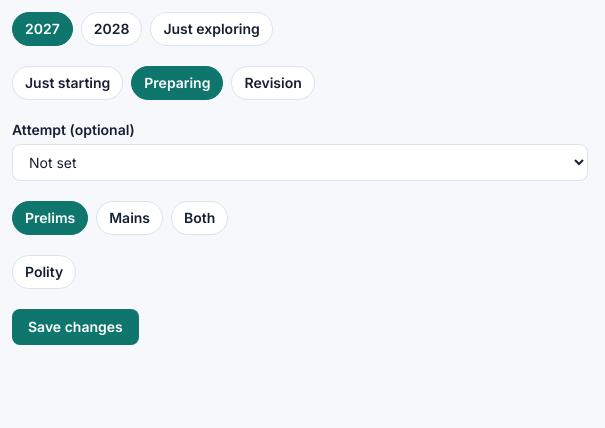
PreparationForm › PUTs the full profile
The width and height of the screenshot is (605, 428).
Click the radio button labelled "2028": {"x": 112, "y": 29} [81, 12, 142, 46]
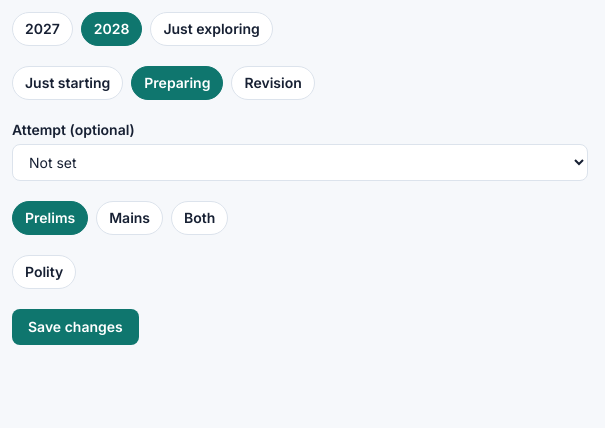
Click the button "Polity": {"x": 44, "y": 272} [12, 255, 76, 289]
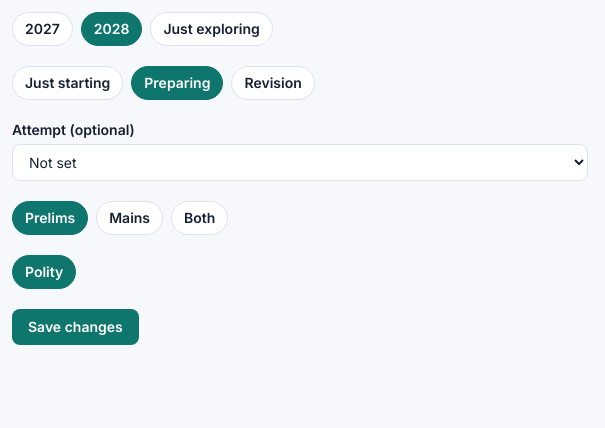
Select "Prefer not to say" in the dropdown labelled "Attempt (optional)": {"x": 300, "y": 162} [12, 144, 588, 181]
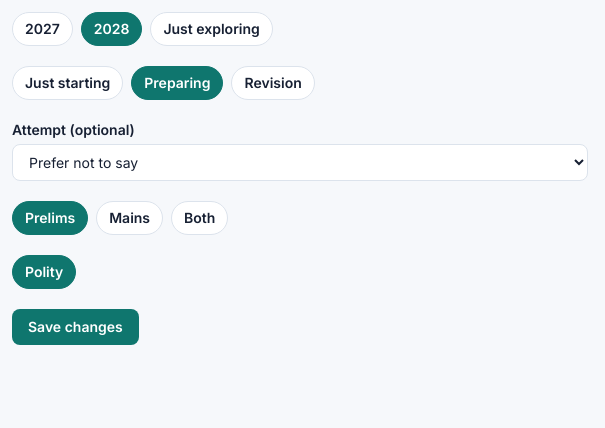
Click the button "Save changes": {"x": 75, "y": 327} [12, 309, 139, 345]
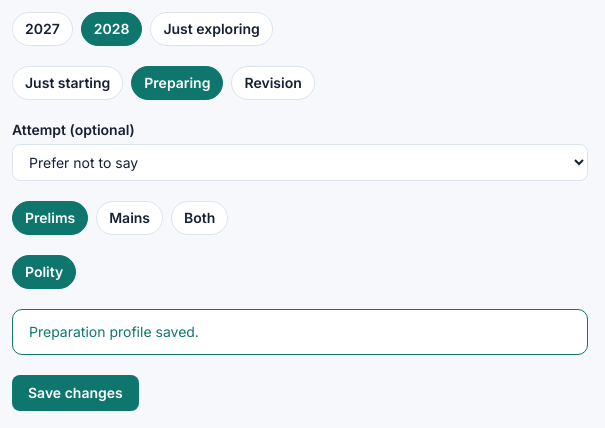
Expected: the message shows "saved", [29, 323, 199, 340]
